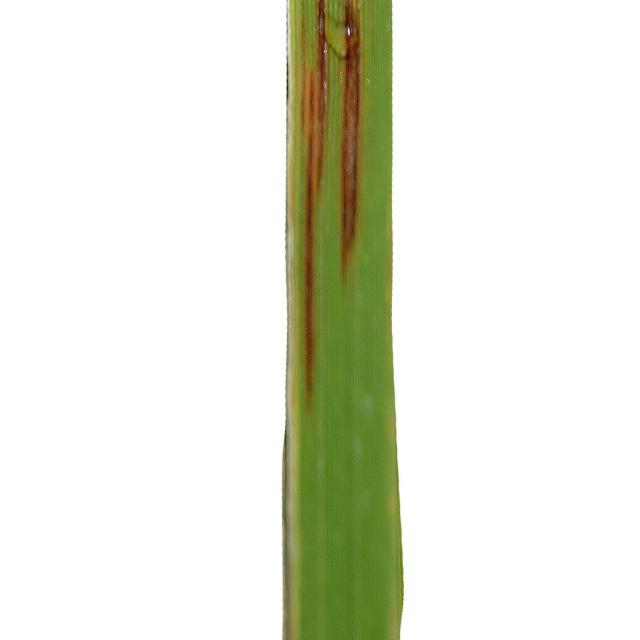Narrow brown: (252, 0, 449, 640)
